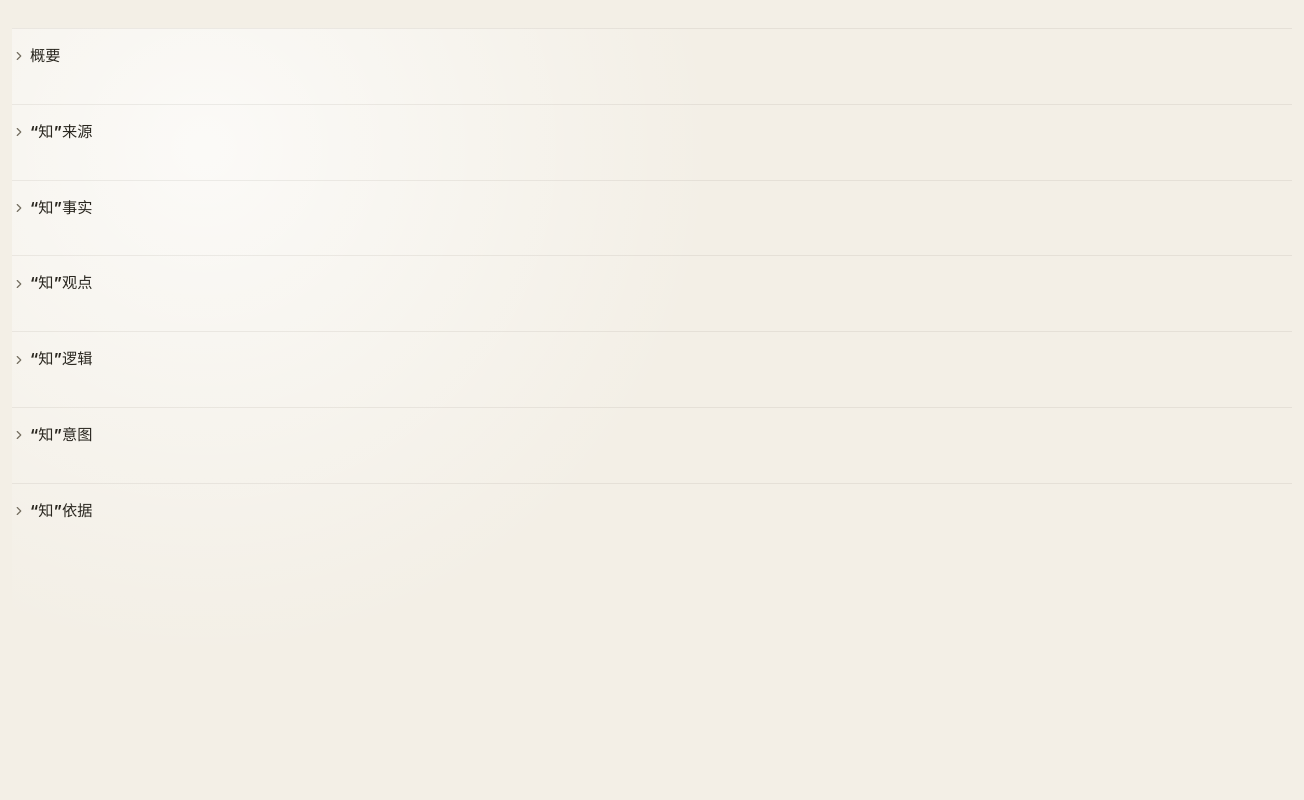
Test: ZhiyanReportView › links only plain web evidence addresses
What coordinates should you click on to do the following:
click the button "“知”依据"
I would click on:
 (61, 510)
Its box is [12,496,1292,531].
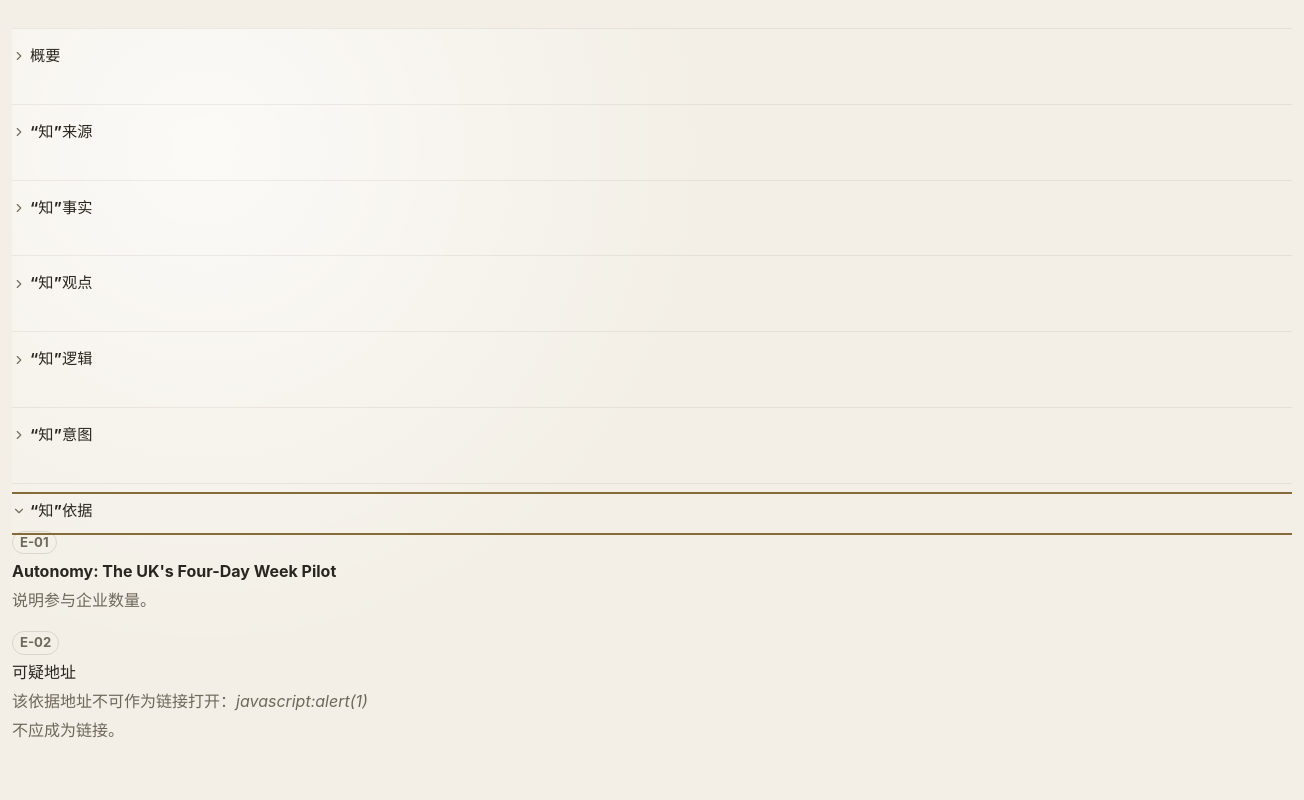
Now the text "该依据地址不可作为链接打开：javascript:alert(1)" is shown, box [12,691,368,711]
